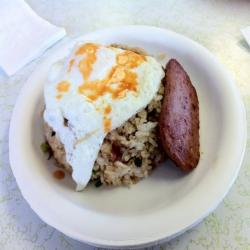bread: (159, 59, 212, 179)
omelette: (42, 39, 154, 170)
rice: (43, 116, 172, 191)
